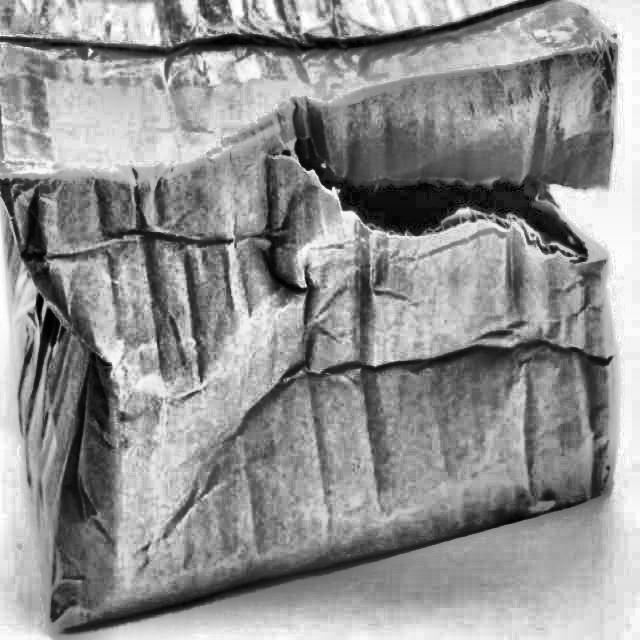box: (0, 0, 622, 634)
hole: (302, 130, 614, 302)
